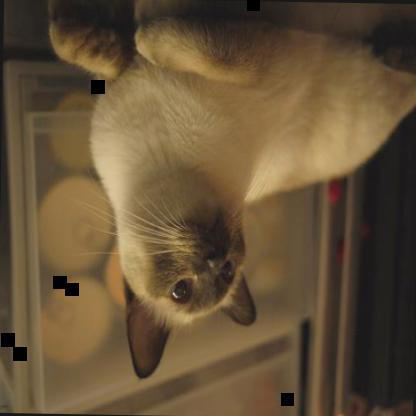cat: (45, 7, 415, 384)
